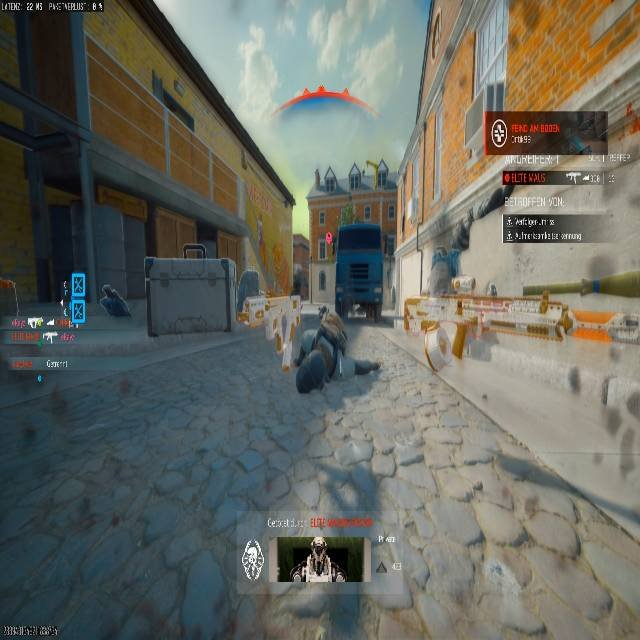head: (307, 534, 330, 563), (101, 284, 112, 296)
player: (256, 534, 350, 640), (98, 283, 132, 319)
